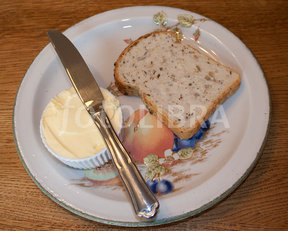slice of bread: (109, 29, 244, 137)
